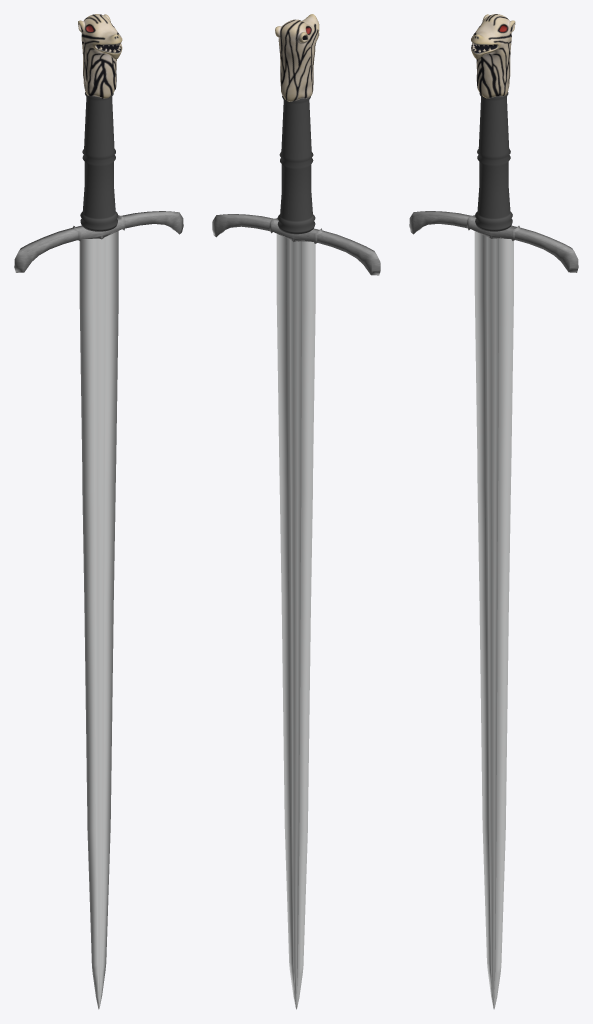
File: sword1.glb
The picture shows the model from 3 angles, left to right: view 1: azimuth 30°, elevation 25°; view 2: azimuth 150°, elevation 25°; view 3: azimuth 330°, elevation 25°; orthographic projection.
Visible parts, largest first — view 1: Spada_LP.001; view 2: Spada_LP.001; view 3: Spada_LP.001.
Boxes of the visible parts, <box> form: Spada_LP.001: <box>14,14,183,1009</box>; Spada_LP.001: <box>212,14,380,1009</box>; Spada_LP.001: <box>409,14,578,1009</box>.
Bounding box in the file's own units: 19.29 × 108 × 5.54.
1 material, 1 textured.
